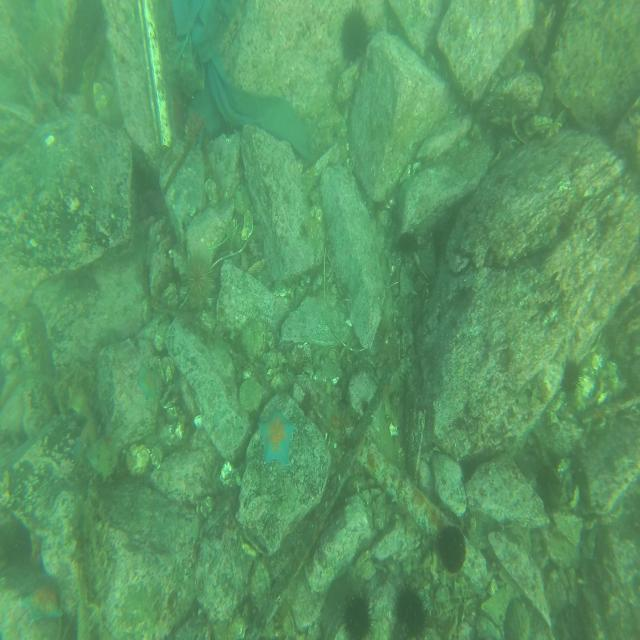echinus: (339, 0, 378, 67), (391, 580, 433, 640), (338, 583, 377, 640), (437, 520, 470, 578), (182, 251, 215, 309), (394, 226, 421, 258), (560, 354, 580, 395)
starfish: (254, 403, 298, 467), (18, 576, 63, 624), (136, 358, 160, 402)
